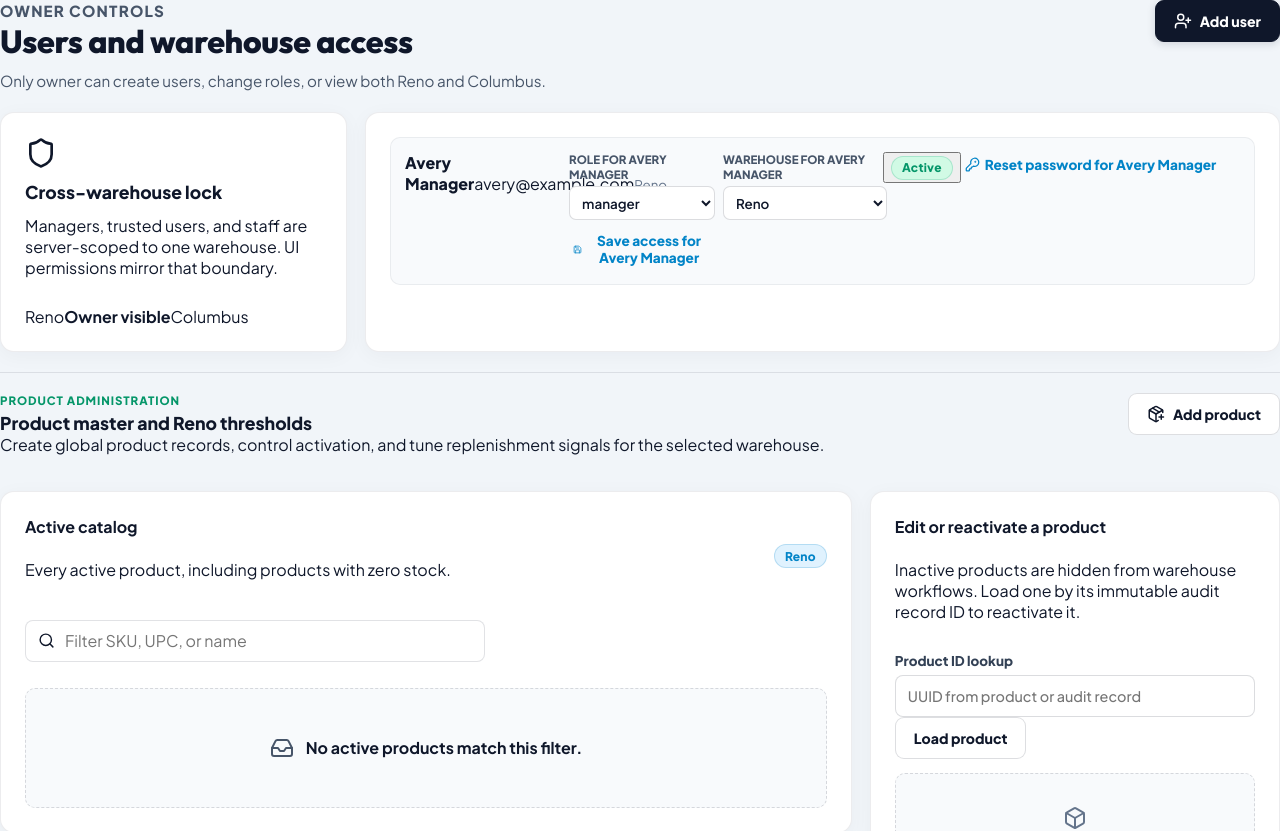
Test: OwnerPage user access › resets a password only after validation and confirmation
Expected: the text "Avery Manager" is shown, [405,152,474,194]
Click the button "Reset password for Avery Manager": (1090, 165) [961,152,1220,177]
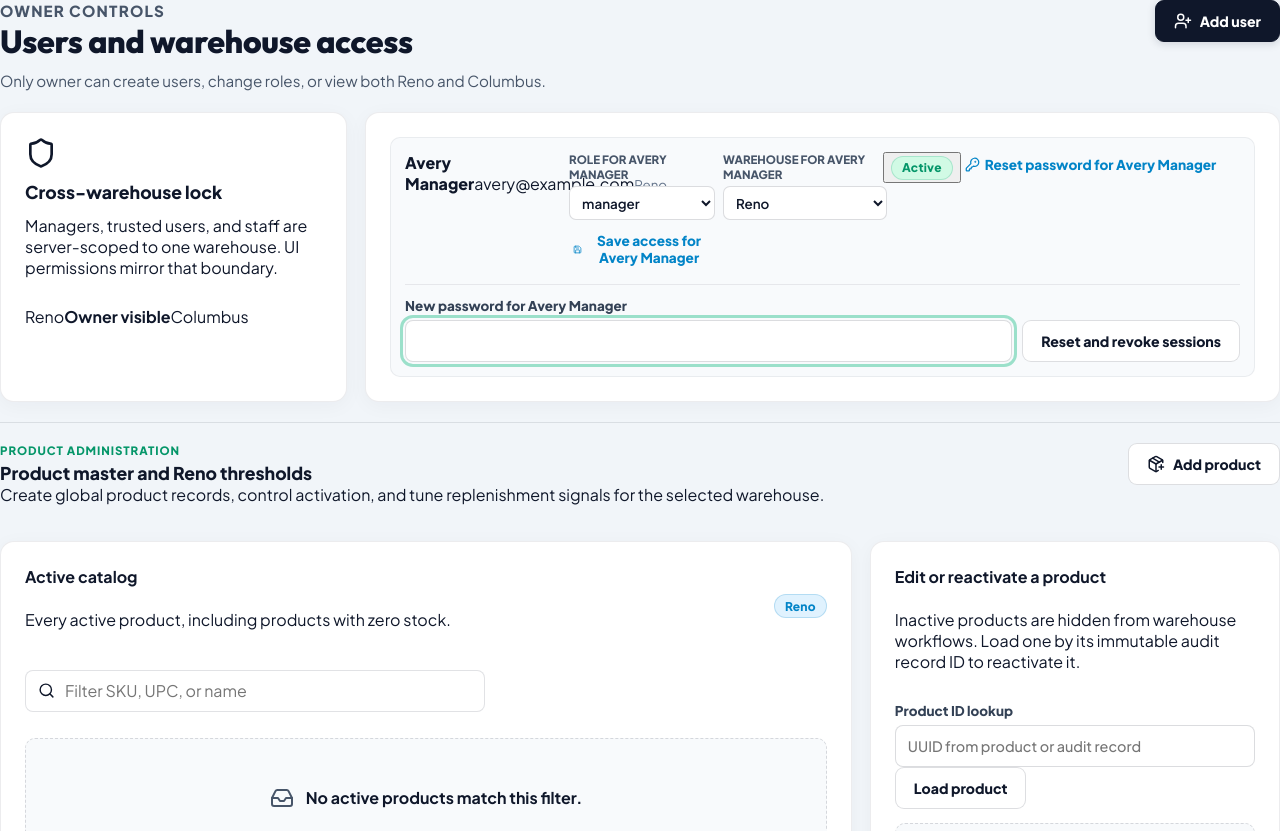
In the password field labelled "New password for Avery Manager": (709, 341) [405,320,1012,362], type "short"
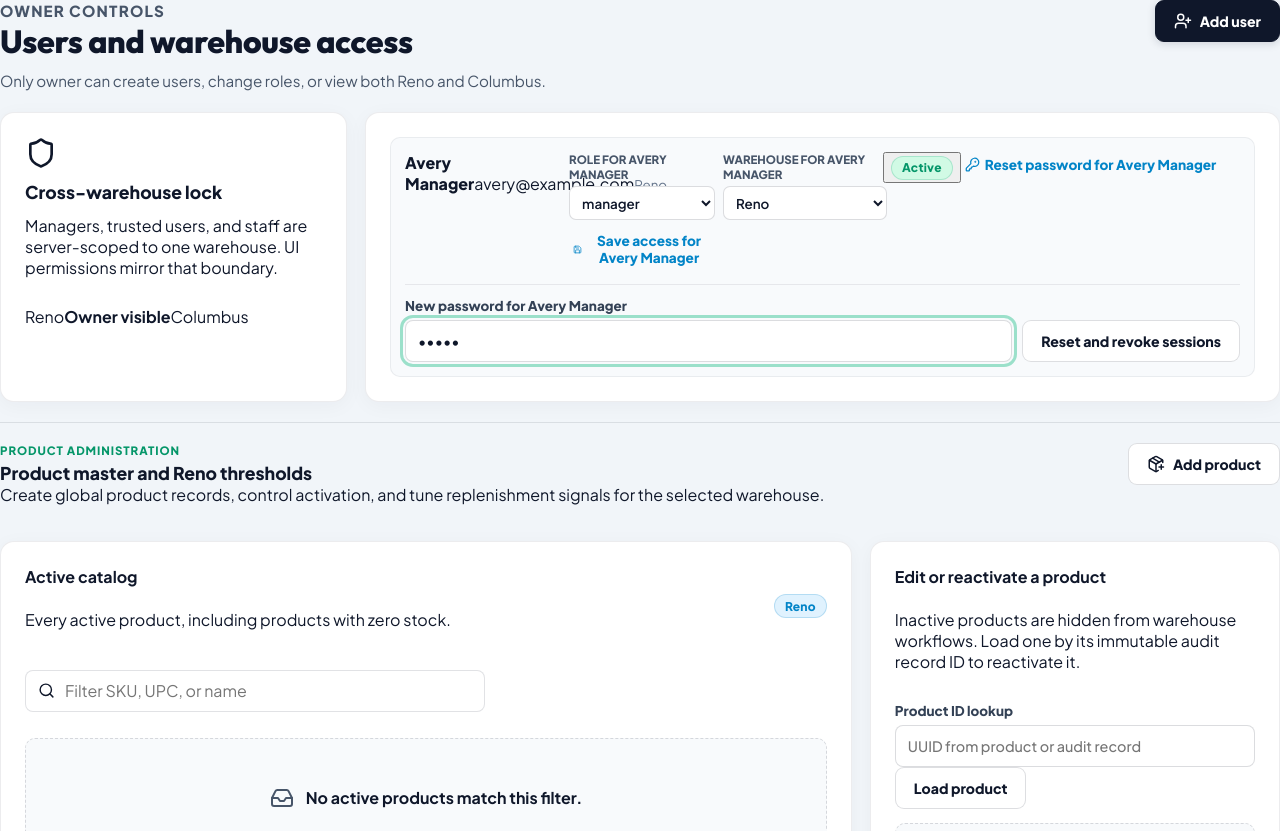
Click the button "Reset and revoke sessions": (1131, 341) [1022,320,1240,362]
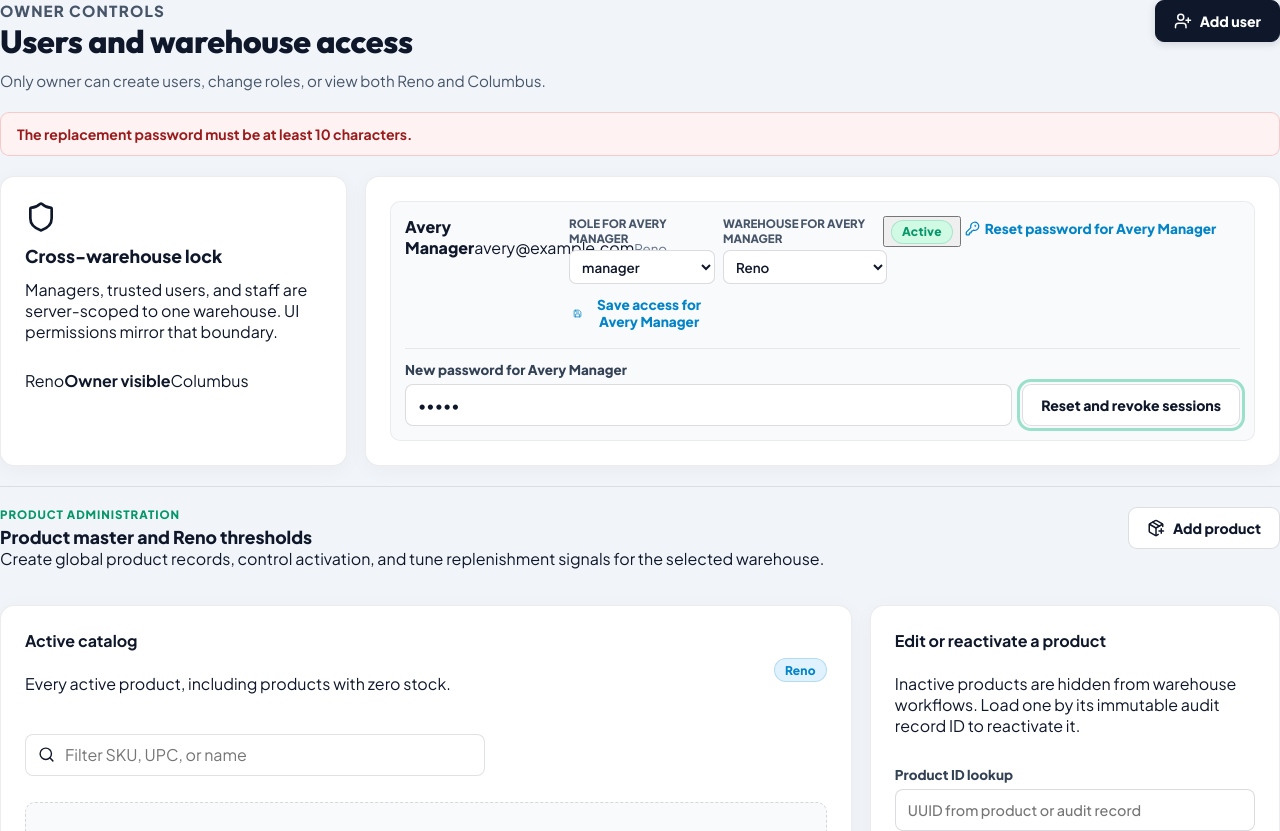
Expected: the message "The replacement password must be at least 10 characters." is shown, [0,112,1279,156]
In the password field labelled "New password for Avery Manager": (709, 405) [405,384,1012,426], type "New-Secure-Password!"
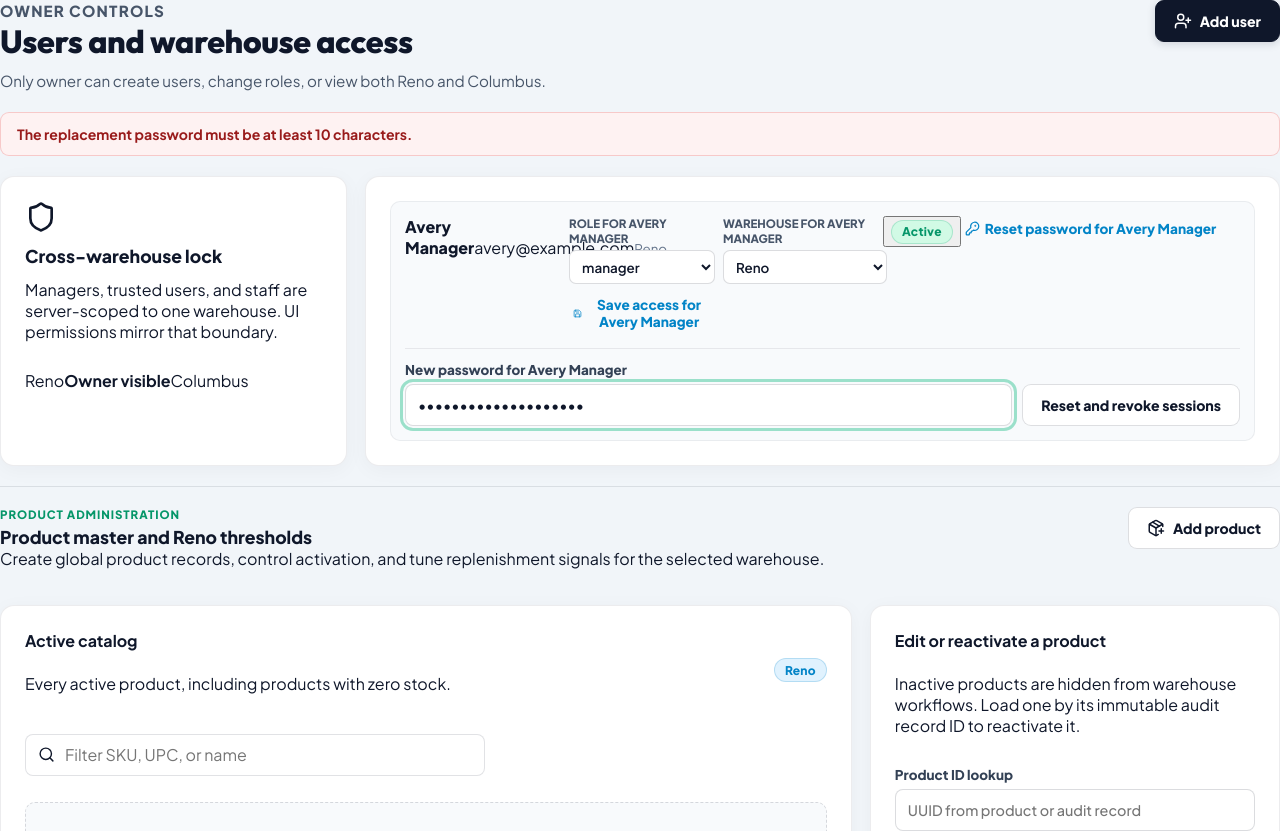
Click the button "Reset and revoke sessions": (1131, 405) [1022,384,1240,426]
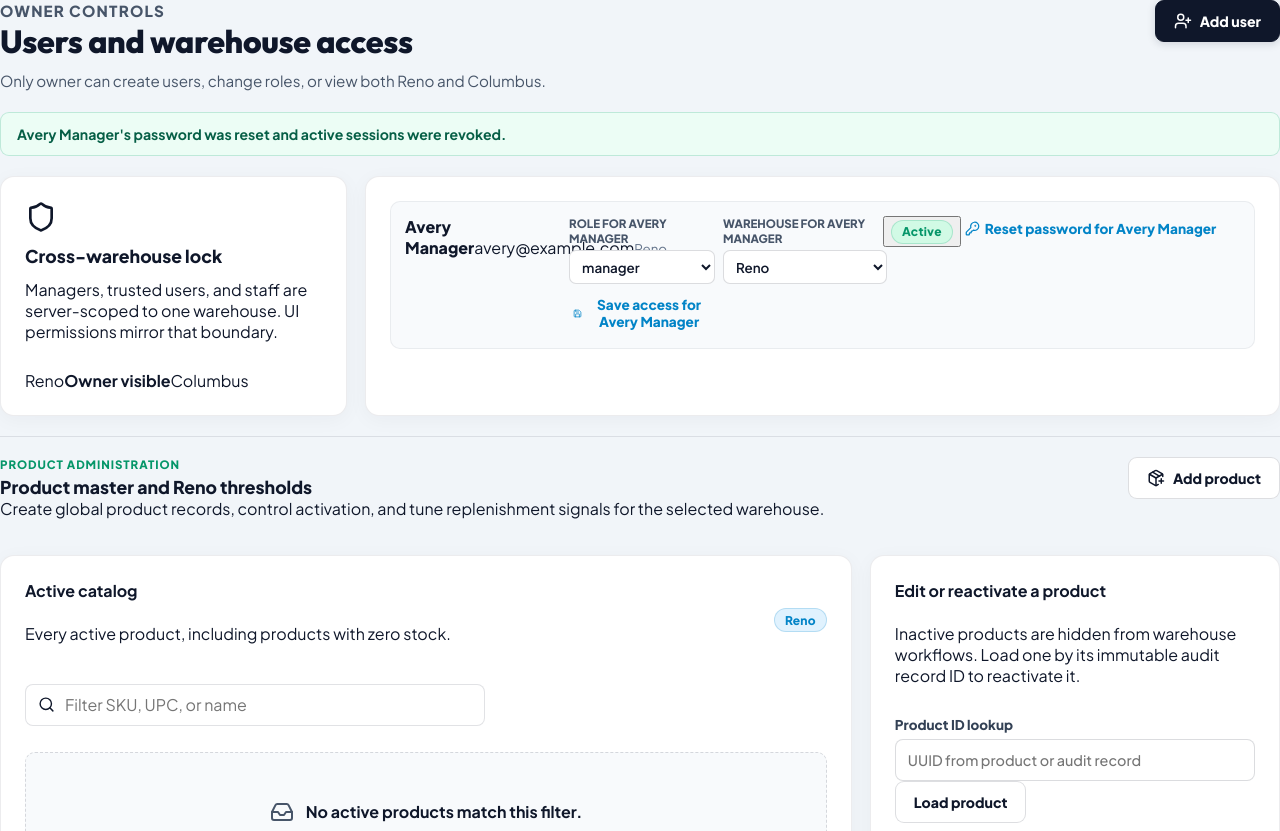
Expected: the text "Avery Manager's password was reset and active sessions were revoked." is shown, [0,112,1279,156]
